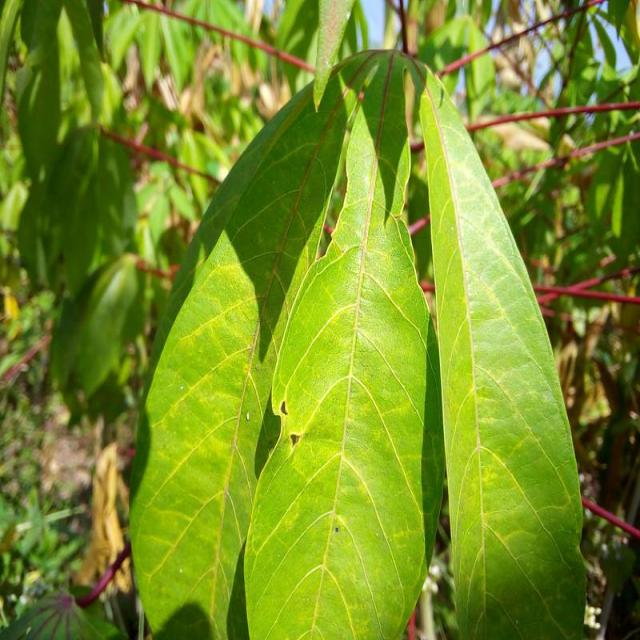cassava leaf: (127, 47, 586, 638), (241, 89, 444, 638), (417, 62, 587, 638)
